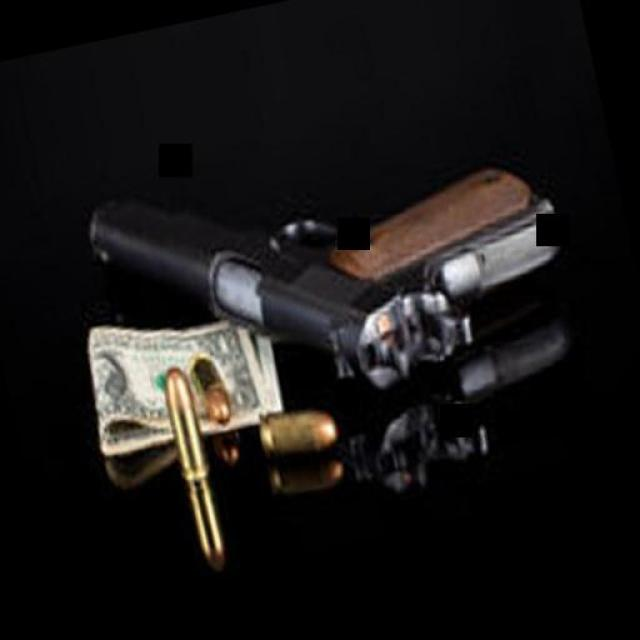gun: (75, 105, 586, 437)
